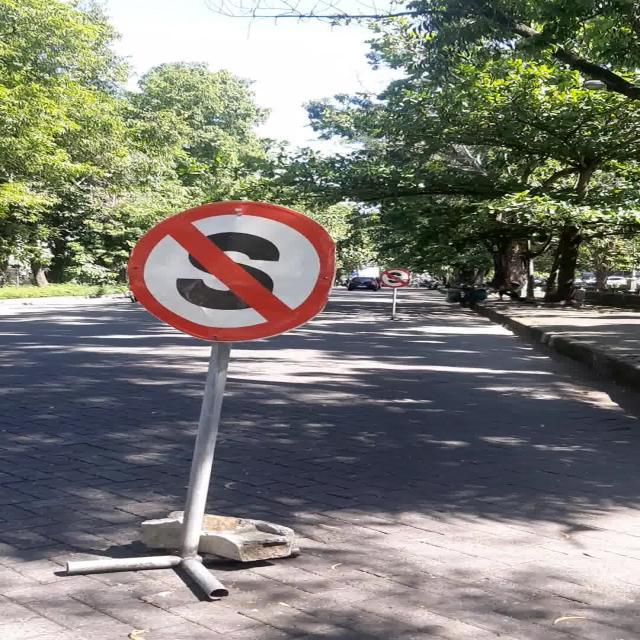Dilarang Berhenti: (128, 200, 336, 342)
